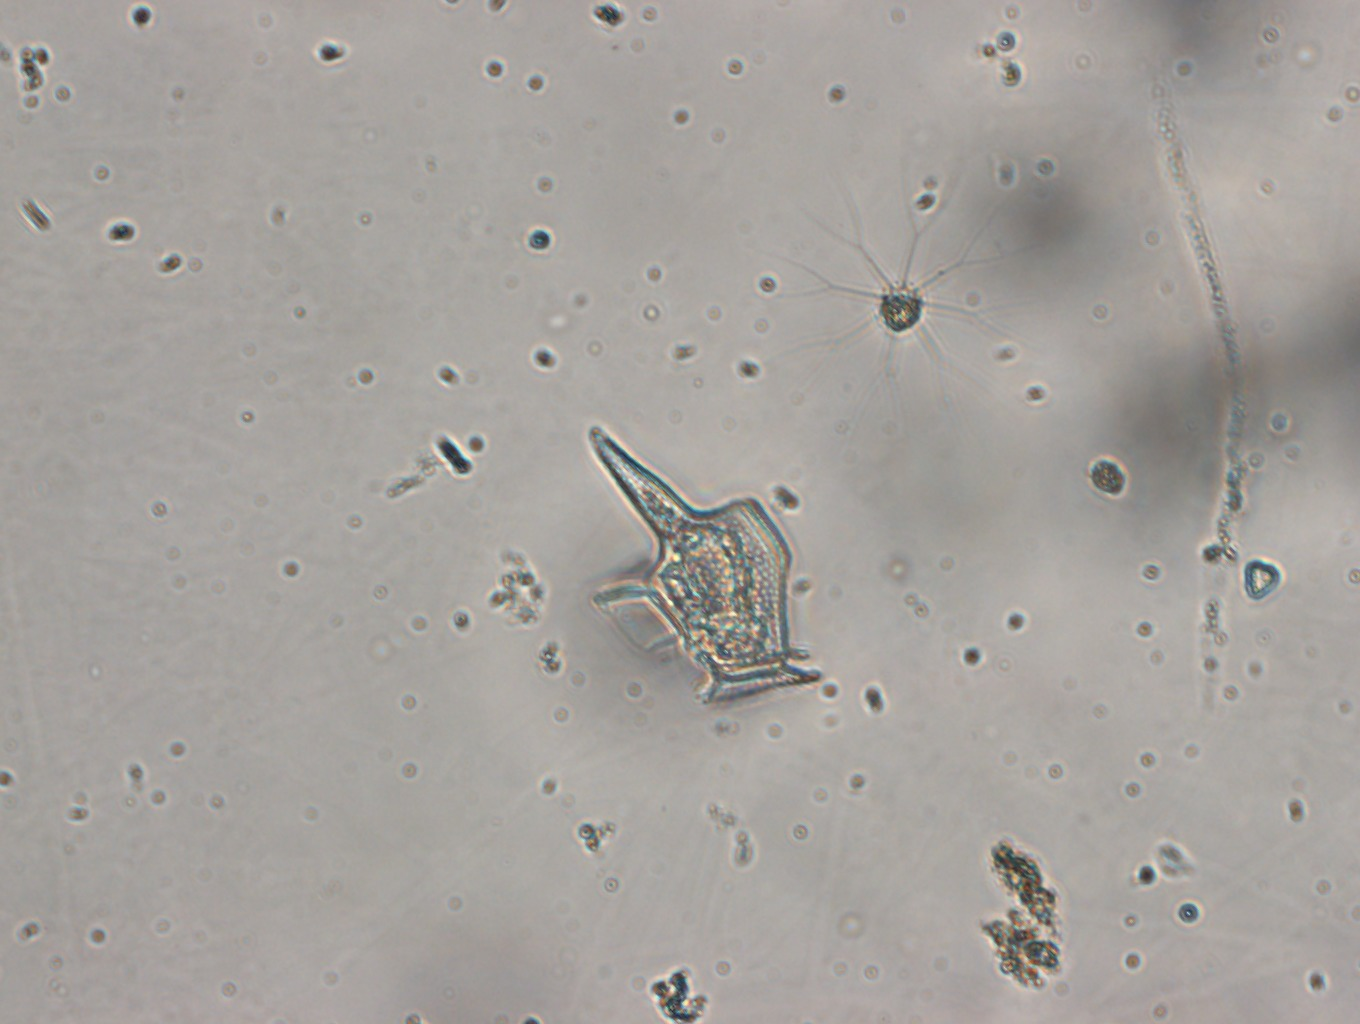bacteriastrum: (760, 143, 1036, 424)
dinophysis caudata: (586, 422, 825, 710)
